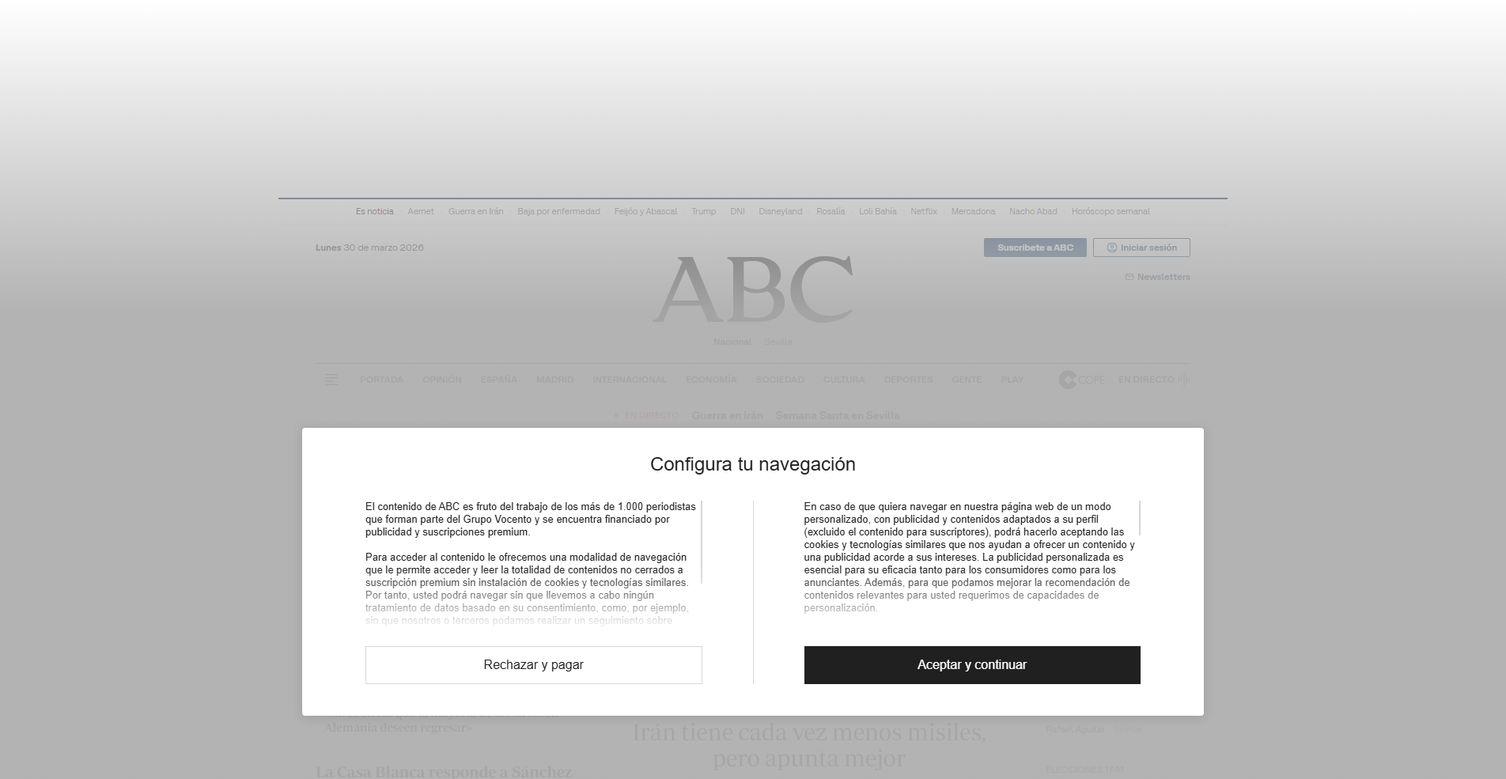button: (365, 646, 702, 684), (804, 646, 1141, 684), (984, 238, 1190, 283), (984, 265, 1190, 283), (984, 238, 1087, 257), (1093, 238, 1190, 257), (322, 370, 341, 389)
link: (596, 467, 1022, 706), (316, 464, 560, 599), (1046, 467, 1190, 611), (632, 716, 986, 773), (652, 256, 854, 323), (1046, 636, 1185, 711), (324, 706, 573, 734), (316, 761, 572, 779), (1058, 370, 1190, 389), (776, 409, 900, 421), (965, 678, 1056, 690), (365, 678, 453, 690), (941, 754, 1029, 766), (518, 205, 600, 217), (1072, 205, 1150, 217), (593, 374, 667, 386), (692, 409, 763, 421), (614, 205, 677, 217), (422, 424, 483, 436), (448, 205, 503, 217), (635, 678, 688, 690), (1031, 652, 1084, 664), (686, 374, 737, 386), (884, 374, 933, 386), (1015, 640, 1063, 652), (756, 374, 804, 386), (1010, 205, 1057, 217), (951, 205, 995, 217), (360, 374, 404, 386), (759, 205, 802, 217), (360, 424, 403, 436), (823, 374, 865, 386), (714, 335, 752, 348), (423, 374, 462, 386), (859, 205, 897, 217), (536, 374, 574, 386), (481, 374, 517, 386), (952, 374, 982, 386), (817, 205, 845, 217), (764, 335, 792, 347), (408, 205, 434, 217), (911, 205, 937, 217), (691, 205, 716, 217), (1001, 374, 1024, 386), (730, 205, 745, 217)
